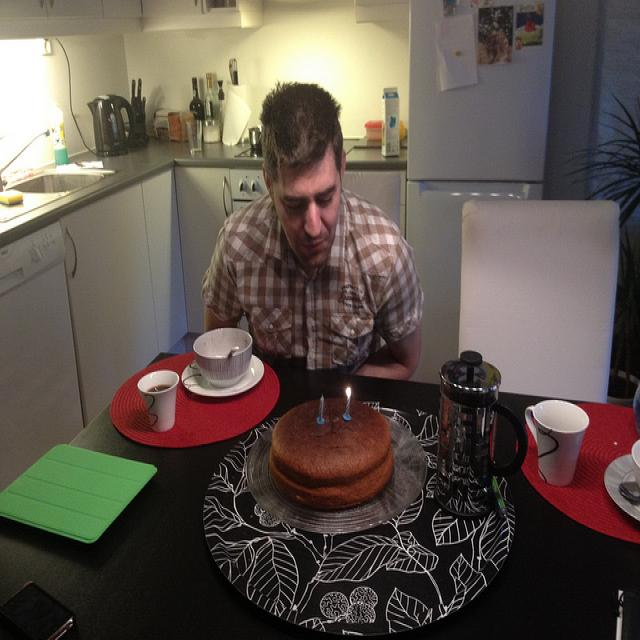chair: (459, 199, 620, 402)
dining table: (0, 328, 640, 640)
